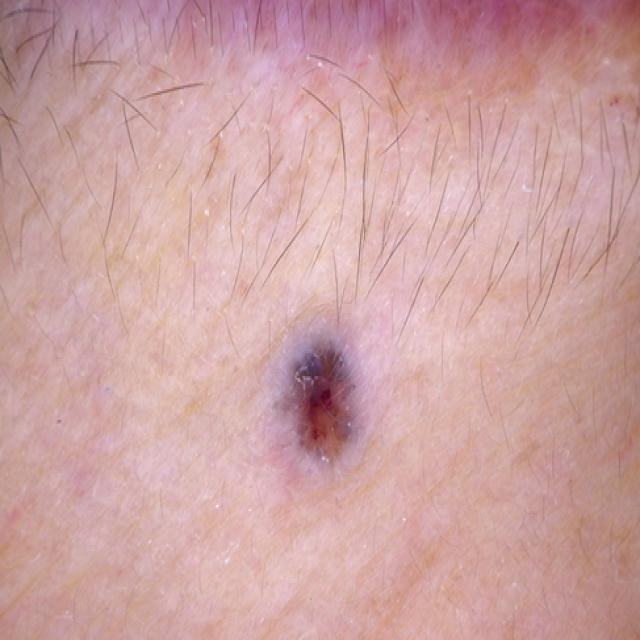Carcinoma: (270, 309, 401, 527)
